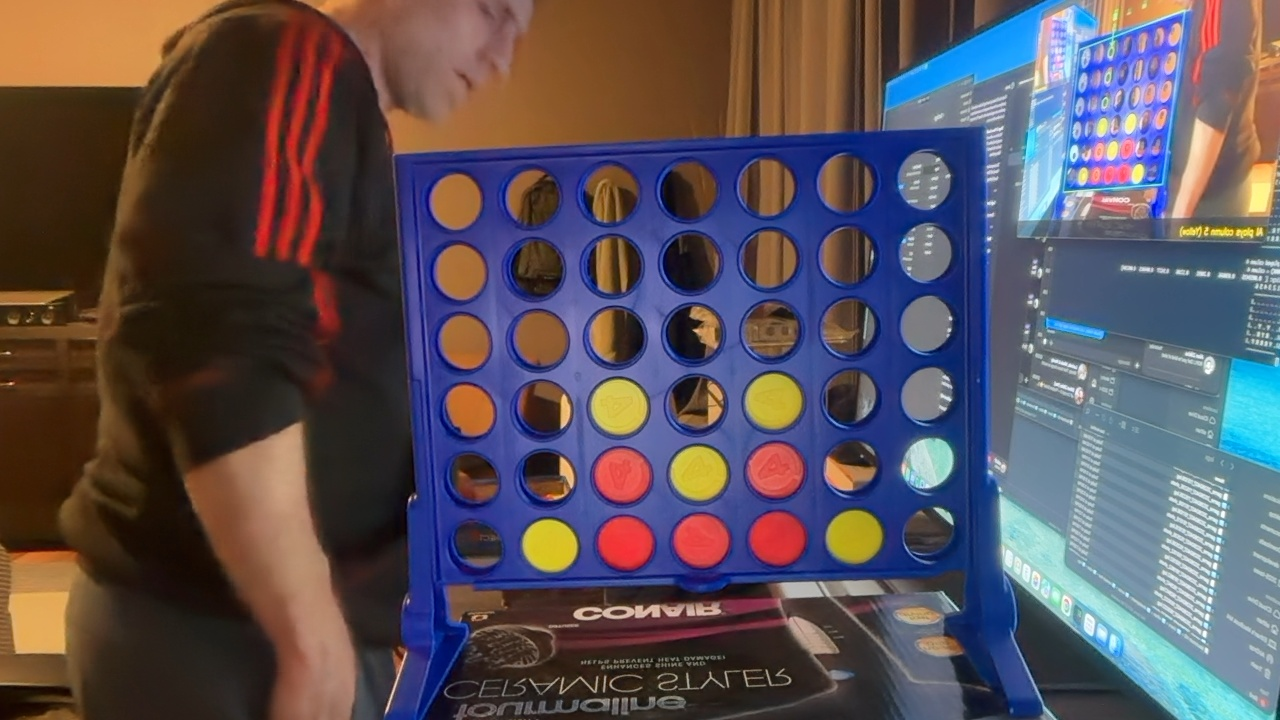red piece: (592, 448, 652, 504), (747, 442, 804, 499), (672, 513, 730, 569), (748, 511, 807, 566), (596, 516, 655, 571)
yellow piece: (589, 378, 648, 436), (744, 372, 803, 430), (669, 445, 728, 501), (826, 510, 884, 564), (522, 518, 578, 573)
